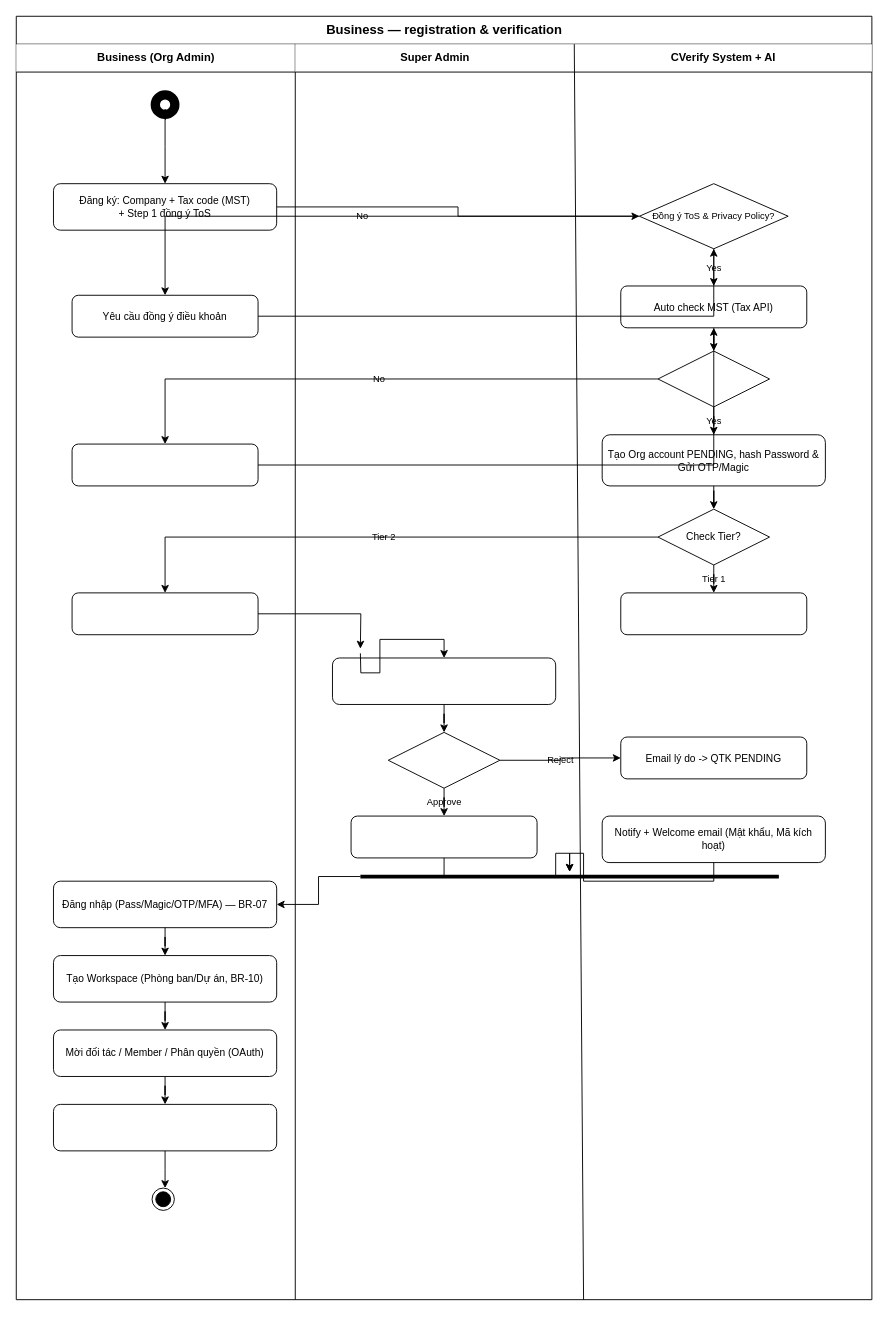
This 888x1317 diagram has some shape labels left out. Here are the shapes that lost their labels. From the top down, the centre of each, then its label:
At (x=713, y=378): "MST Hợp lệ?".
At (x=164, y=464): "Báo lỗi MST - nhập lại".
At (x=164, y=613): "Up Giấy ĐKKD (GPKD)".
At (x=713, y=613): "Set Member Tier 1".
At (x=444, y=680): "Review HSKD và GPKD, Giấy UQ / Mã ĐK".
At (x=443, y=759): "Duyệt HSKD?".
At (x=443, y=836): "Set Tier -> ACTIVE".
At (x=165, y=1127): "Publish JD lên Job Board (BR-17)".
